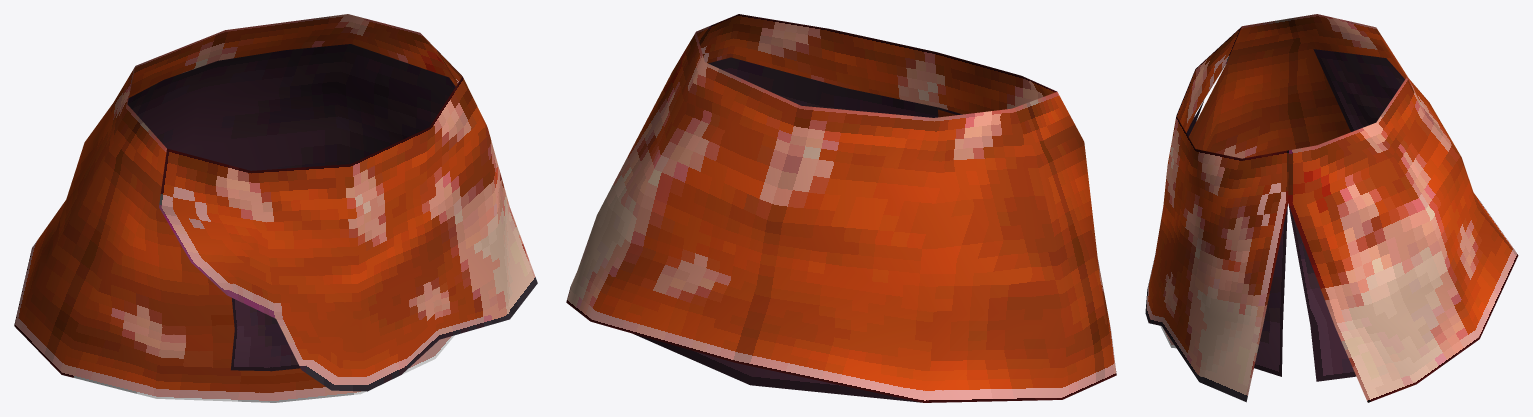
Rendered from f_waist150.obj.
3 renders of one model, left to right at view 1: azimuth 30°, elevation 25°; view 2: azimuth 150°, elevation 25°; view 3: azimuth 270°, elevation 25°, orthographic. The views are drawn at different scales.
Parts seen in each view (by area): view 1: mesh00; view 2: mesh00; view 3: mesh00.
Boxes of the visible parts, x1=… form: mesh00: x1=14, y1=14, x2=537, y2=402; mesh00: x1=566, y1=14, x2=1116, y2=402; mesh00: x1=1145, y1=14, x2=1518, y2=402.
Bounding box in the file's own units: 48.18 × 26.53 × 36.6.
Materials: 1 (1 with a texture image).
